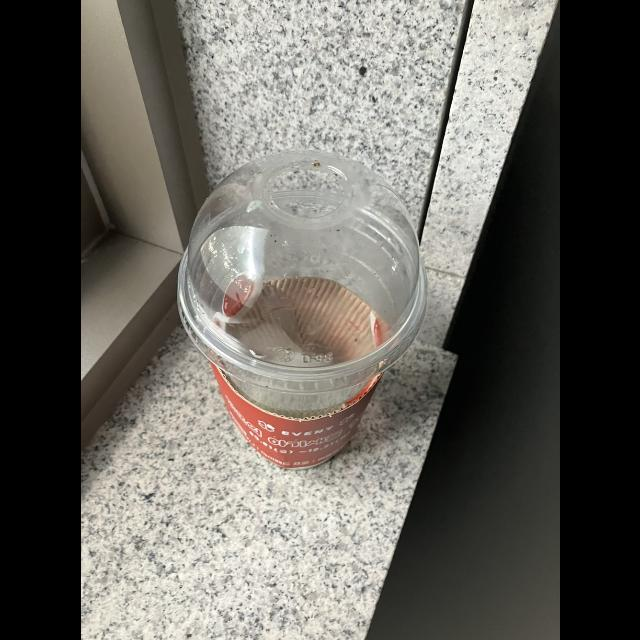plastic_cup: (175, 148, 428, 472)
plastic_cup_lid: (164, 148, 426, 382)
